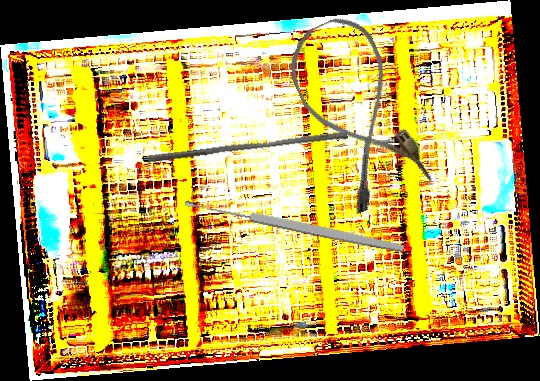Cannula: (276, 7, 436, 217)
Pusher: (147, 124, 348, 171)
Surgical Spoon: (184, 195, 405, 256)
